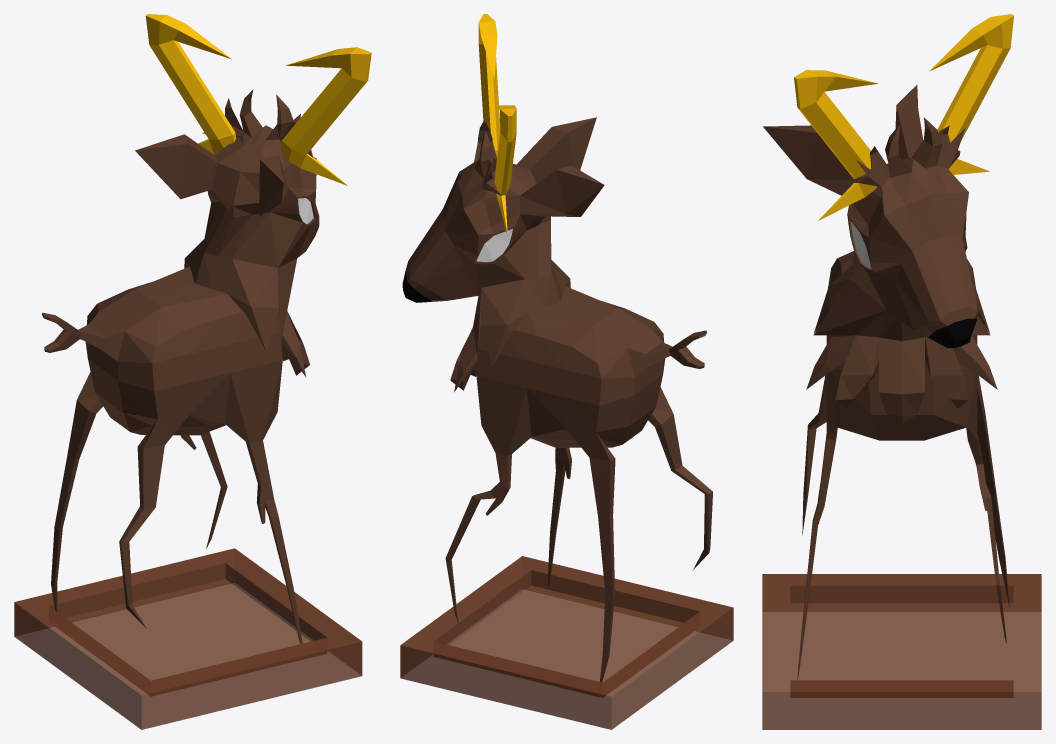
Rendered from 3d_minion_yggradsil_yellow.fbx.
3 renders of one model, left to right at view 1: azimuth 30°, elevation 25°; view 2: azimuth 150°, elevation 25°; view 3: azimuth 270°, elevation 25°, orthographic. The views are drawn at different scales.
Visible parts, largest first — view 1: yiggradsil_yellow, SM_will_o_wisp_01; view 2: yiggradsil_yellow, SM_will_o_wisp_01; view 3: yiggradsil_yellow, SM_will_o_wisp_01.
Boxes of the visible parts, left/top/right/bottom form: yiggradsil_yellow: left=42, top=14, right=371, bottom=643; SM_will_o_wisp_01: left=14, top=548, right=362, bottom=729; yiggradsil_yellow: left=402, top=14, right=712, bottom=682; SM_will_o_wisp_01: left=400, top=556, right=733, bottom=729; yiggradsil_yellow: left=763, top=14, right=1013, bottom=679; SM_will_o_wisp_01: left=762, top=574, right=1041, bottom=729.
Size of the model in its own units: 133 by 262 by 100.
2 materials, 2 textured.
